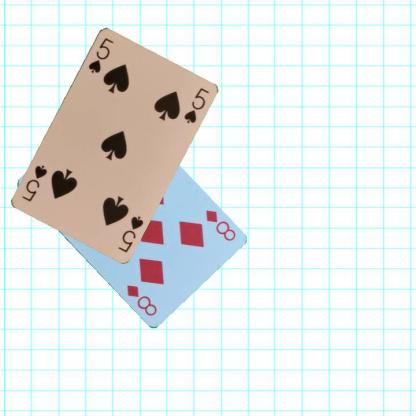5s: (115, 212, 145, 254), (85, 35, 115, 74)
8d: (203, 208, 236, 242)
